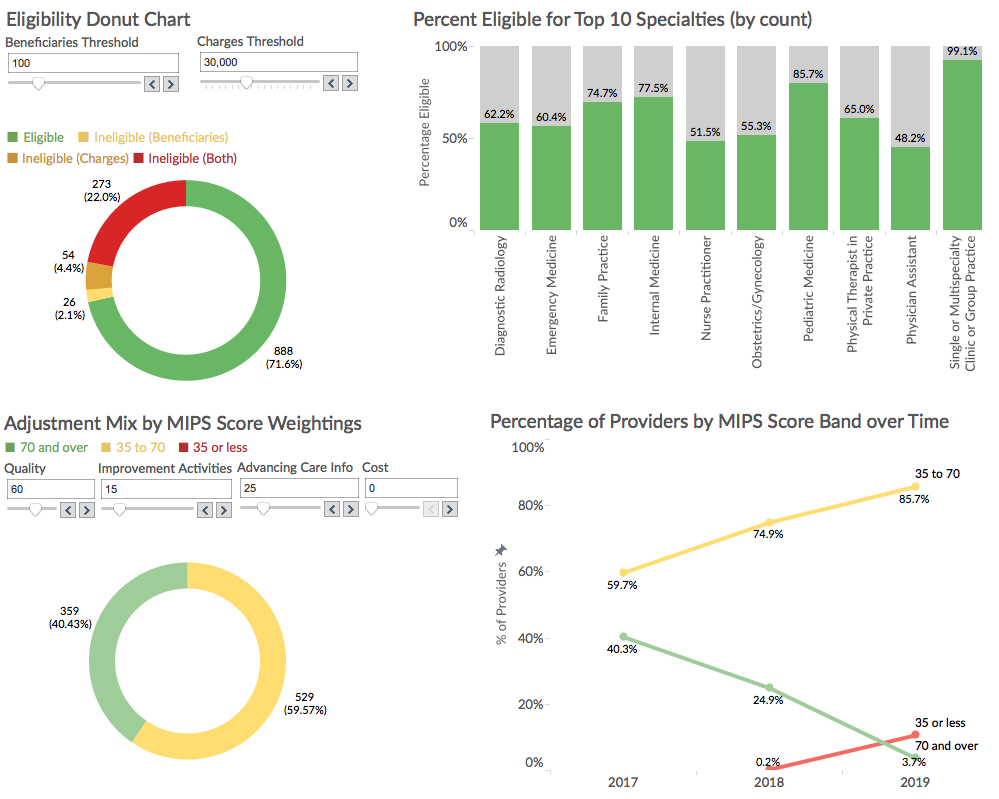

This screenshot's page, from the dashboard's own definition file:
{"tool":"tableau","page":{"name":"QPP Policy Team Dashboard","canvas":[1000,800],"ordinal":0},"visuals":[{"type":"worksheet","title":"Eligibility Donut Chart","mark":"Pie","cols":["Number of Records","Number of Records"],"box":[7,8,360,378]},{"type":"worksheet","title":"Eligibility Bar Chart","mark":"Bar","rows":["Calculation_2530727191636572","Calculation_3860727191907856"],"cols":["specialty_description (eligibility_by_specialty)"],"box":[414,8,575,371]},{"type":"parameter","param":"[Parameters].[Parameter 2]","box":[198,34,164,72]},{"type":"parameter","param":"[Parameters].[Parameter 1]","box":[6,35,177,81]},{"type":"worksheet","title":"Sheet 4","mark":"Line","cols":["year"],"box":[491,410,498,381]},{"type":"worksheet","title":"Scores Donut Chart","mark":"Pie","cols":["Number of Records","Number of Records (copy)"],"box":[5,412,367,386]},{"type":"parameter","param":"[Parameters].[Parameter 6]","box":[238,460,125,66]},{"type":"parameter","param":"[Parameters].[Parameter 3]","box":[363,460,99,72]},{"type":"parameter","param":"[Parameters].[Parameter 4]","box":[5,461,94,78]},{"type":"parameter","param":"[Parameters].[Parameter 5]","box":[99,461,137,76]}]}

Visuals, with their boxes in screenshot pixels (x1, y1, x2, y2), scaled from the page's 1000x800 canvas onto the 999x799 screenshot:
"Eligibility Donut Chart" worksheet (Pie marks): {"x1": 7, "y1": 8, "x2": 367, "y2": 386}
"Eligibility Bar Chart" worksheet (Bar marks): {"x1": 414, "y1": 8, "x2": 988, "y2": 379}
parameter: {"x1": 198, "y1": 34, "x2": 362, "y2": 106}
parameter: {"x1": 6, "y1": 35, "x2": 183, "y2": 116}
"Sheet 4" worksheet (Line marks): {"x1": 491, "y1": 409, "x2": 988, "y2": 790}
"Scores Donut Chart" worksheet (Pie marks): {"x1": 5, "y1": 411, "x2": 372, "y2": 797}
parameter: {"x1": 238, "y1": 459, "x2": 363, "y2": 525}
parameter: {"x1": 363, "y1": 459, "x2": 462, "y2": 531}
parameter: {"x1": 5, "y1": 460, "x2": 99, "y2": 538}
parameter: {"x1": 99, "y1": 460, "x2": 236, "y2": 536}
